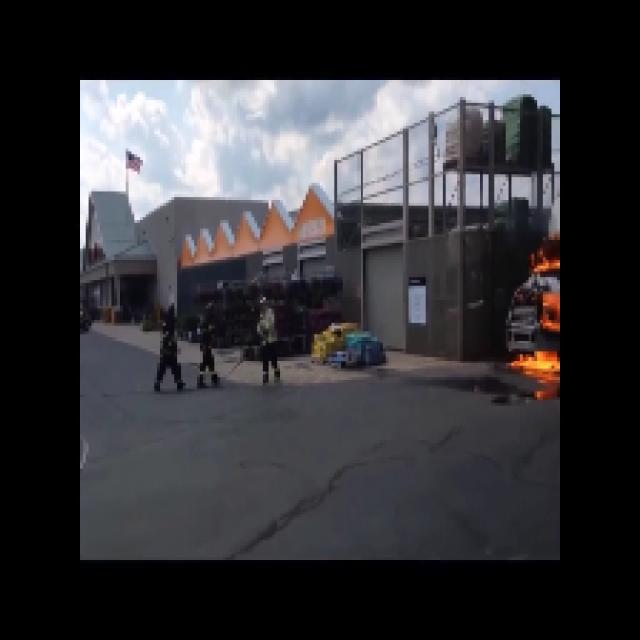fire: (514, 349, 558, 375)
